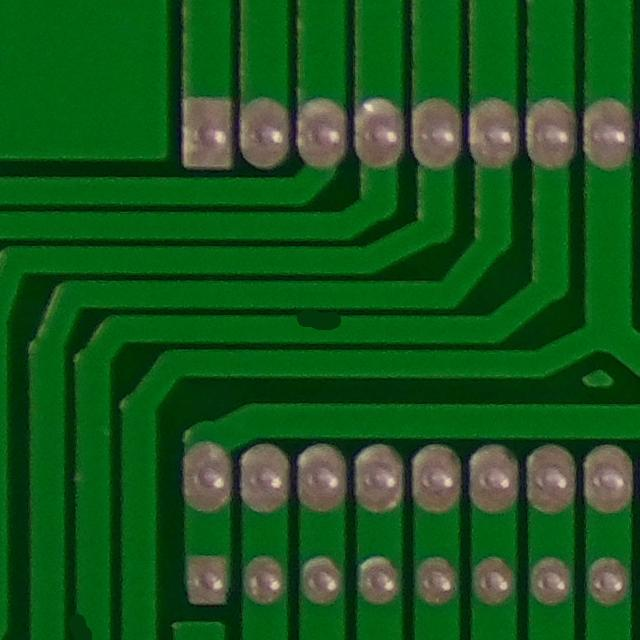mouse_bite: (285, 299, 356, 341)
